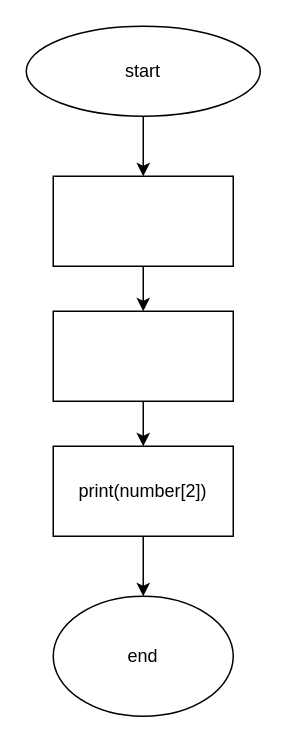
This 287x743 diagram has some shape labels left out. The shapes that lost their labels are listed below. From the top down, each one's centre as x and y in pixels, then its label:
At [142,220]: "int number".
At [142,355]: "int number -> str number".
